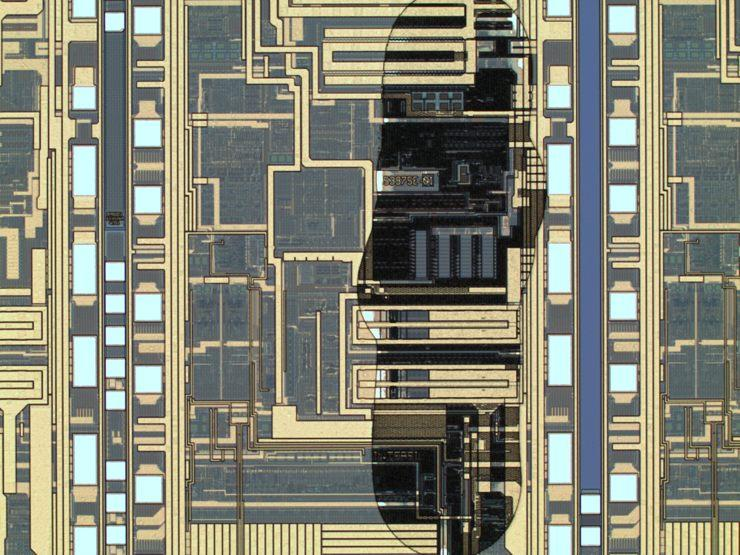COATING BAD: (356, 1, 549, 555)
